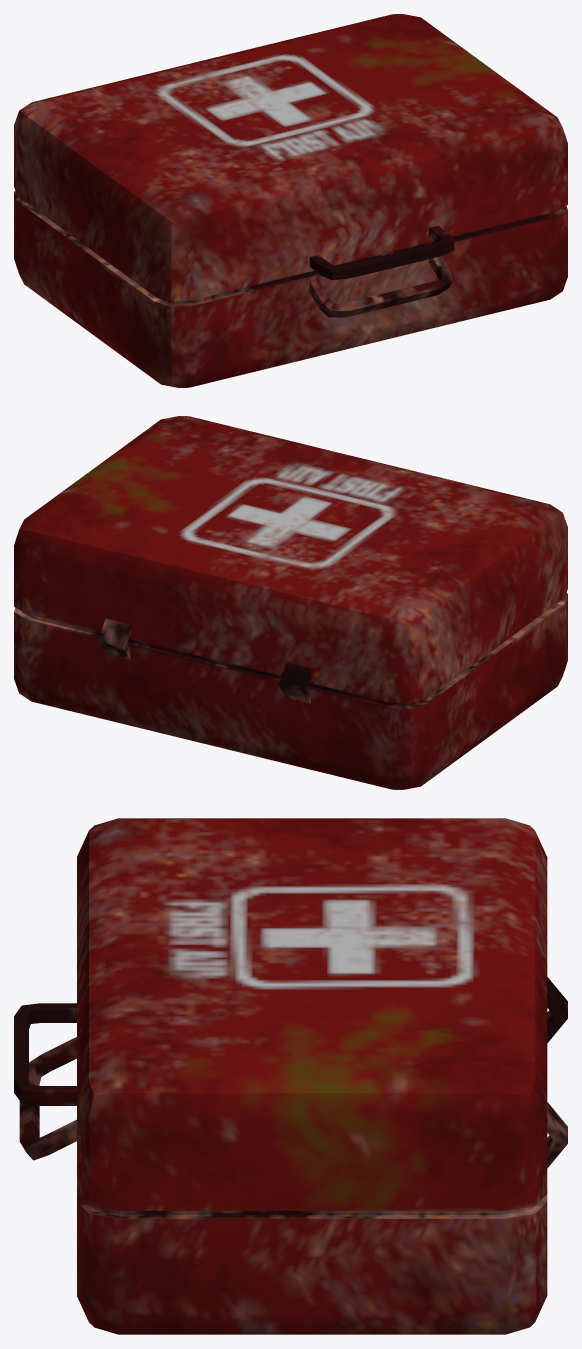
File: SM_FirstAidKit.fbx
The picture shows the model from 3 angles, top to bottom: view 1: azimuth 30°, elevation 25°; view 2: azimuth 150°, elevation 25°; view 3: azimuth 270°, elevation 25°; orthographic projection. The views are drawn at different scales.
Visible parts, largest first — view 1: SM_FirstAidKit; view 2: SM_FirstAidKit; view 3: SM_FirstAidKit.
Boxes of the visible parts, left/top/right/bottom form: SM_FirstAidKit: left=14, top=14, right=567, bottom=387; SM_FirstAidKit: left=14, top=416, right=567, bottom=789; SM_FirstAidKit: left=14, top=818, right=567, bottom=1334.
Bounding box in the file's own units: 13.7 × 5.91 × 11.26.
1 material, 1 textured.
